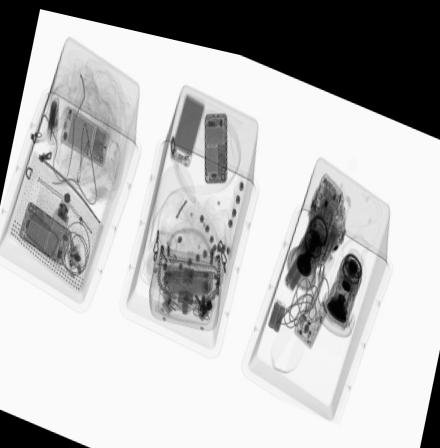Powerbank: (168, 84, 206, 161)
